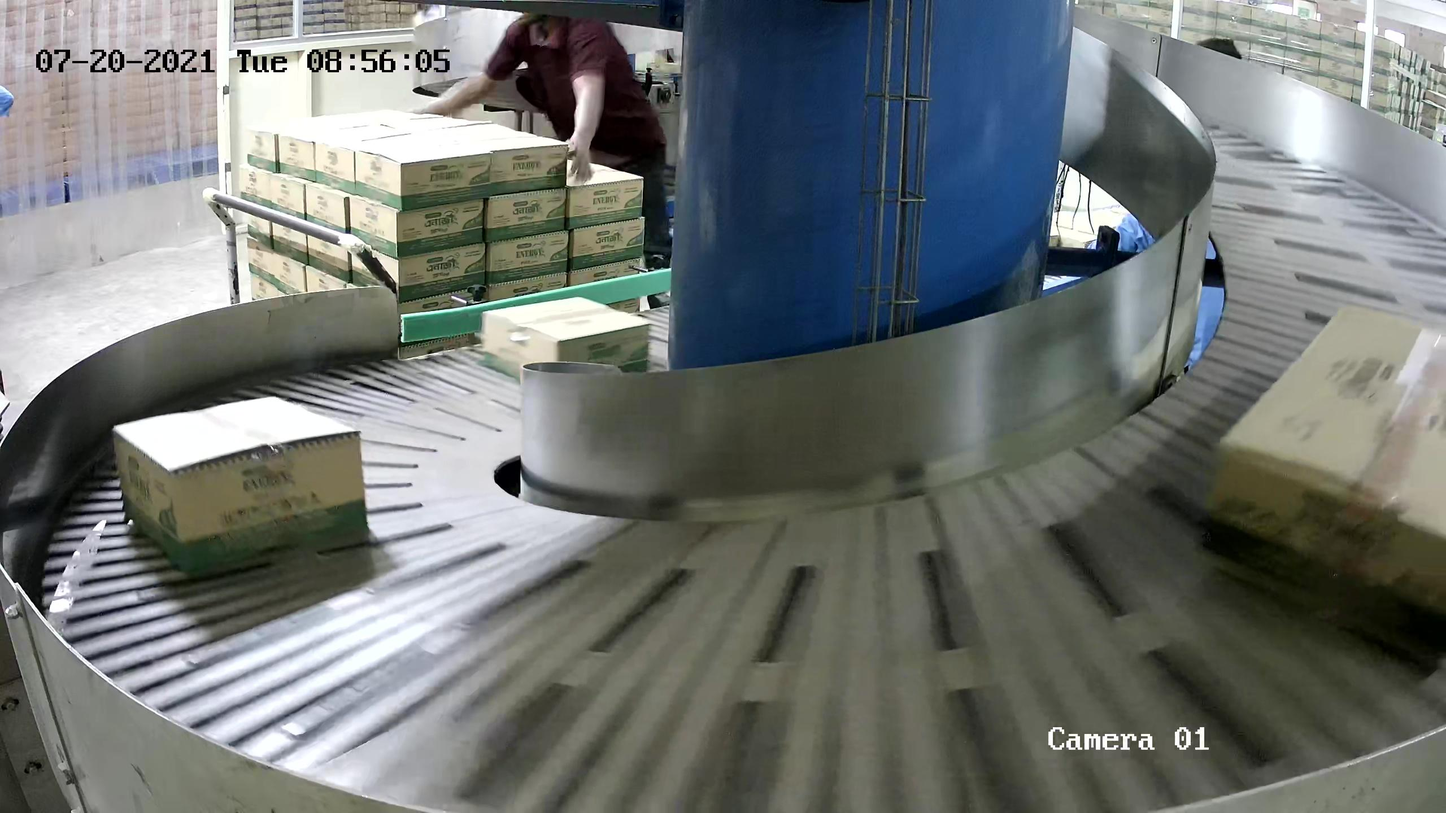Box: (1195, 299, 1446, 675), (111, 395, 372, 575), (479, 296, 652, 385)
